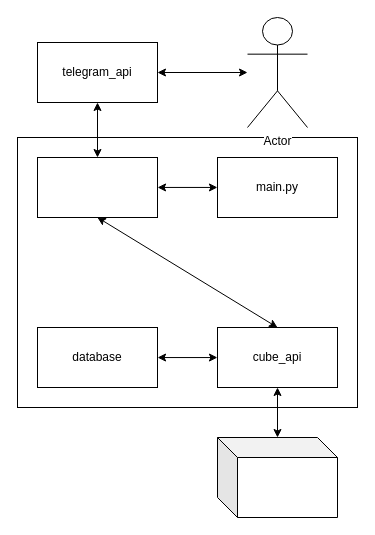
The diagram is 375 pixels wide and 535 high, and some of its shapes have lost their labels. Each missing label, with the box of its shape:
cube: (216, 436, 338, 518)
telegram_bot: (36, 156, 158, 218)
